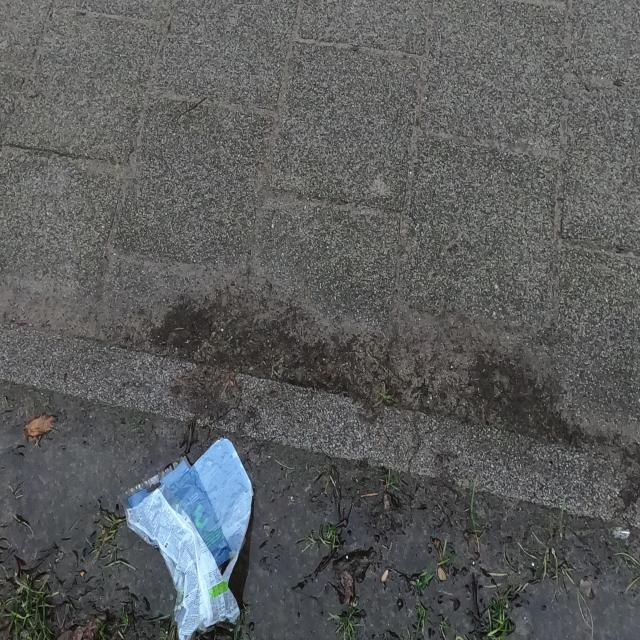Plastic: (114, 436, 254, 640)
